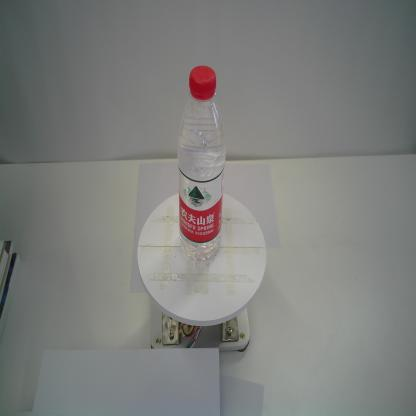Drink: (176, 64, 226, 262)
